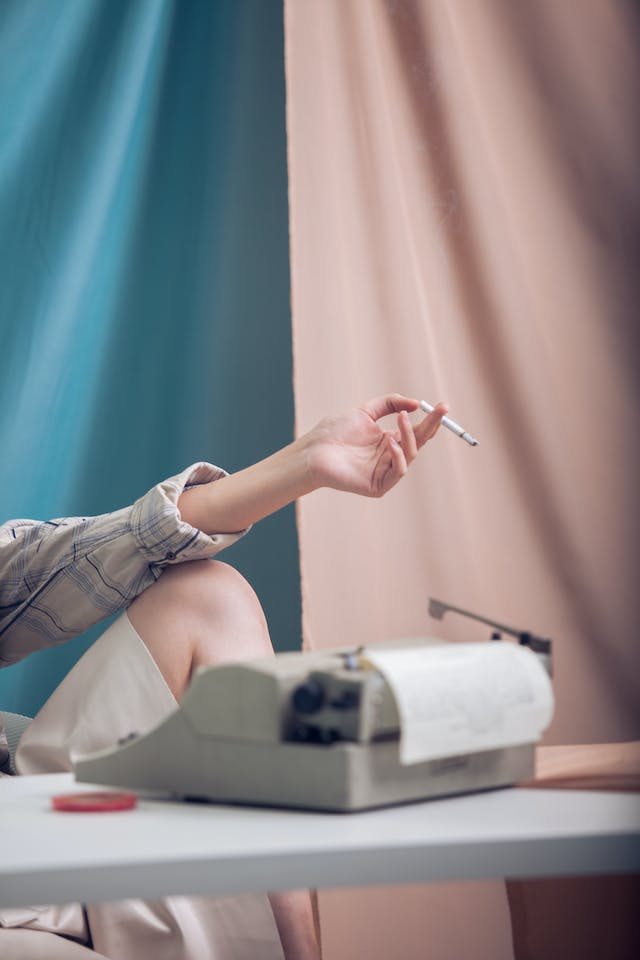Cigarette: (417, 399, 481, 449)
